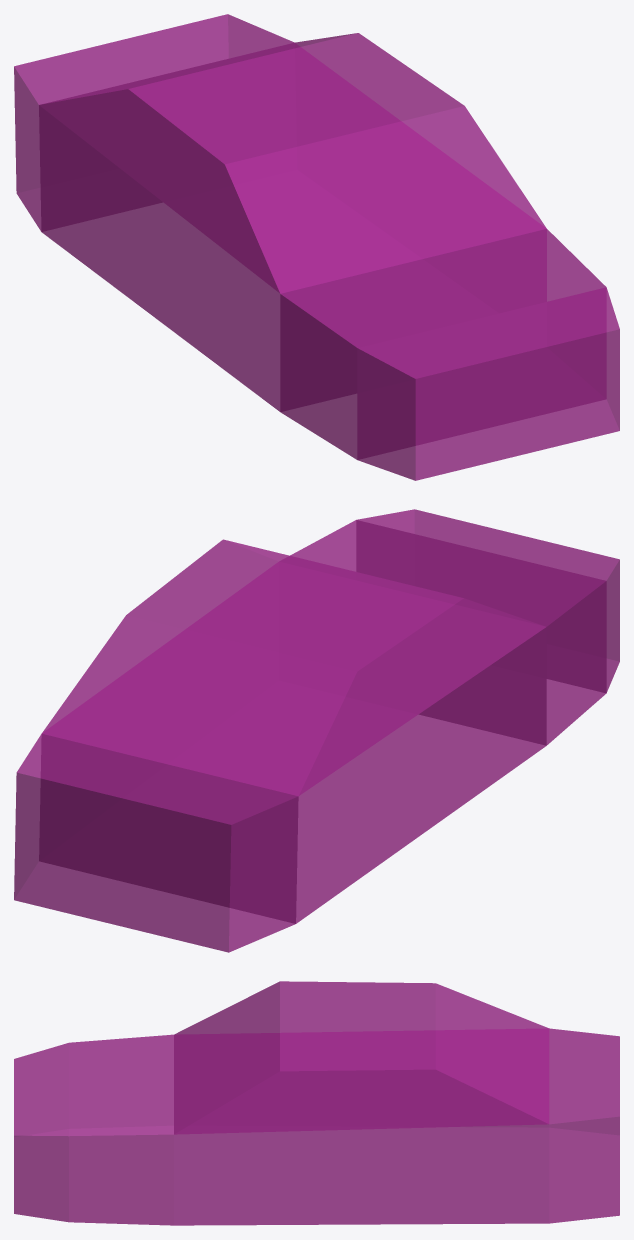
The model's file is SM_Veh_Sedan_01_Collision.fbx.
3 views of the same model, one above another, from view 1: azimuth 30°, elevation 25°; view 2: azimuth 150°, elevation 25°; view 3: azimuth 270°, elevation 25° (orthographic). The views are drawn at different scales.
Visible parts, largest first — view 1: SM_Veh_Sedan_01_Collision; view 2: SM_Veh_Sedan_01_Collision; view 3: SM_Veh_Sedan_01_Collision.
Part boxes in pixels (<box>): SM_Veh_Sedan_01_Collision: <box>14,14,619,480</box>; SM_Veh_Sedan_01_Collision: <box>14,509,619,952</box>; SM_Veh_Sedan_01_Collision: <box>14,981,619,1225</box>.
Size of the model in its own units: 208 by 145 by 533.
